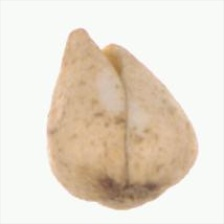L1: (67, 27, 128, 69), (95, 188, 167, 211)
L2: (47, 28, 199, 209)
